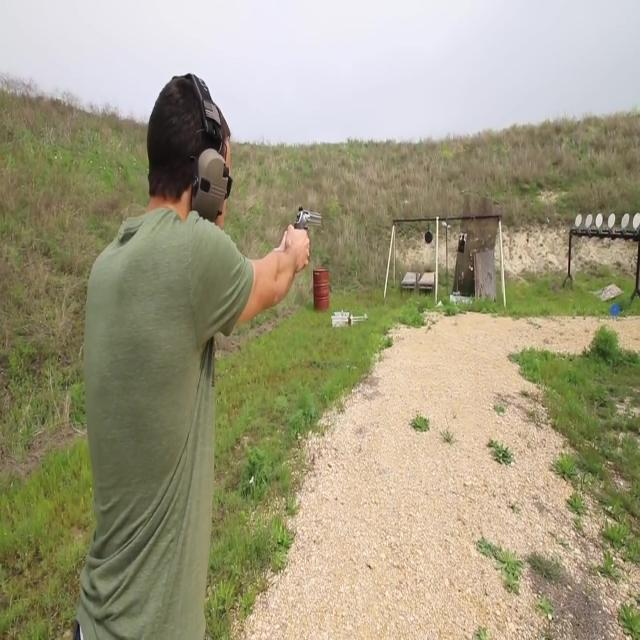Weapon: (287, 169, 351, 312)
